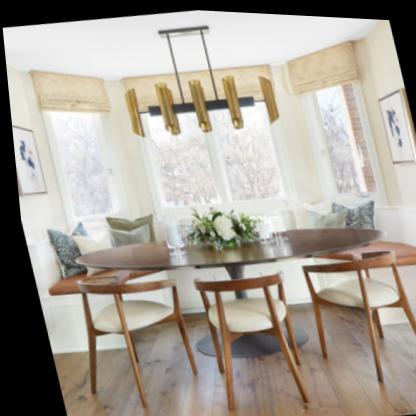Dining Table: (41, 194, 416, 416)
